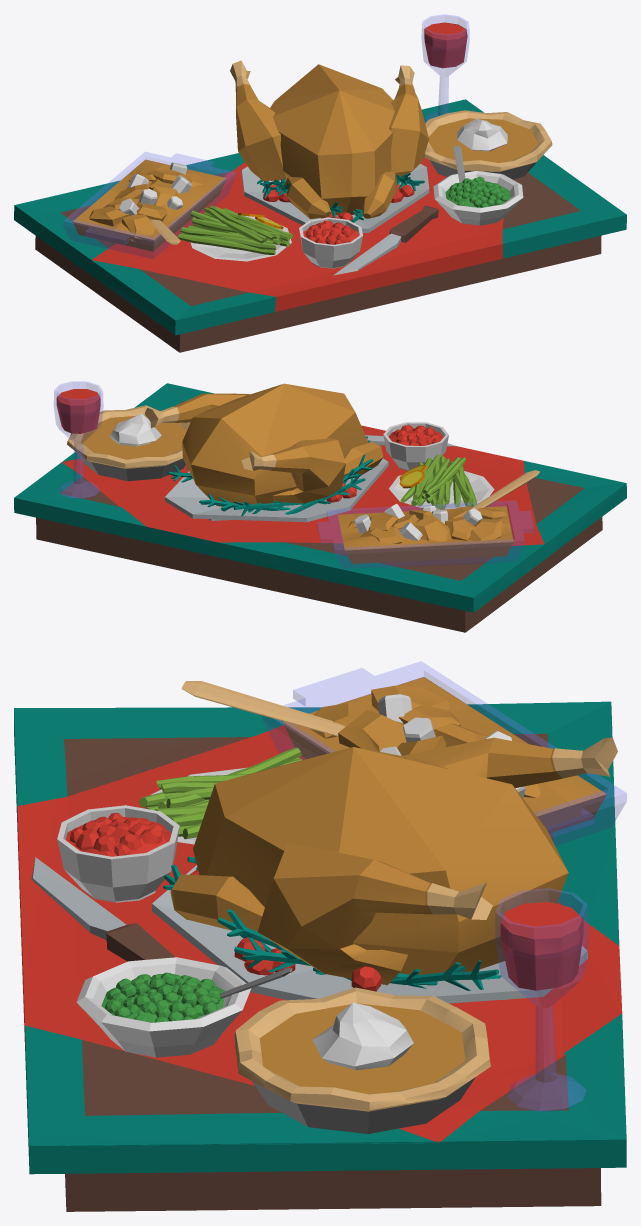
3 renders of one model, top to bottom at view 1: azimuth 30°, elevation 25°; view 2: azimuth 150°, elevation 25°; view 3: azimuth 270°, elevation 25°, orthographic. The views are drawn at different scales.
Visible parts, largest first — view 1: node_MeshObject-152710144-PolyPaper8_1, node_MeshObject718530560-PolyPaper21_2, node_MeshObject-1006454784-PolyGlass24_0; view 2: node_MeshObject-152710144-PolyPaper8_1, node_MeshObject718530560-PolyPaper21_2, node_MeshObject-1006454784-PolyGlass24_0; view 3: node_MeshObject-152710144-PolyPaper8_1, node_MeshObject718530560-PolyPaper21_2, node_MeshObject-1006454784-PolyGlass24_0.
Part boxes in pixels (<box>): node_MeshObject-152710144-PolyPaper8_1: <box>35,60,601,352</box>; node_MeshObject718530560-PolyPaper21_2: <box>14,22,626,335</box>; node_MeshObject-1006454784-PolyGlass24_0: <box>63,14,469,258</box>; node_MeshObject-152710144-PolyPaper8_1: <box>36,383,602,632</box>; node_MeshObject718530560-PolyPaper21_2: <box>14,383,626,612</box>; node_MeshObject-1006454784-PolyGlass24_0: <box>54,381,533,568</box>; node_MeshObject-152710144-PolyPaper8_1: <box>17,681,622,1211</box>; node_MeshObject718530560-PolyPaper21_2: <box>14,677,626,1174</box>; node_MeshObject-1006454784-PolyGlass24_0: <box>263,661,626,1111</box>.
Bounding box in the file's own units: 2.61 × 0.8259 × 1.57.
